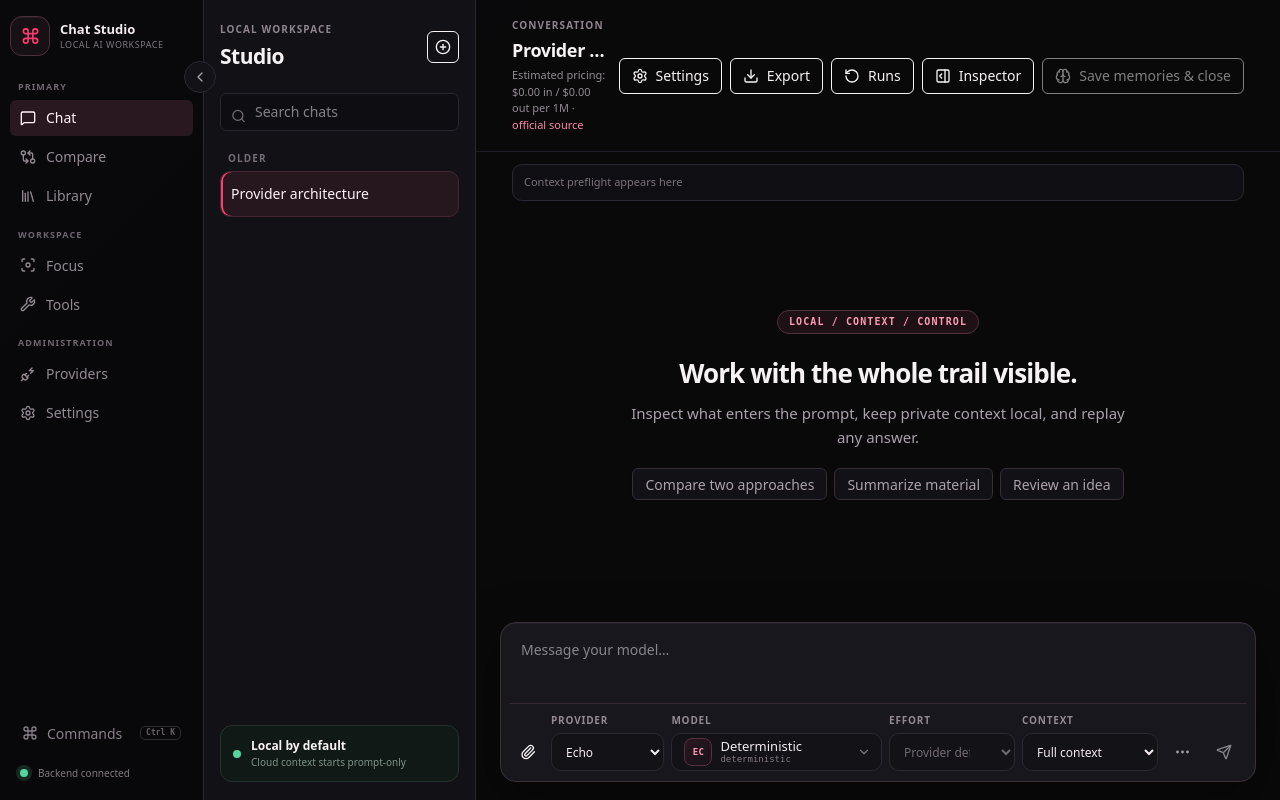
Test: studio workspace › inspects current context and controls evidence without leaving Chat
This screenshot has width=1280, height=800.
Expected: the heading "Provider architecture" is shown, [512,37,607,64]
Expected: the text "Backend connected" is shown, [38,766,130,780]
Type "hello" into the text box labelled "Message" at (878, 667), box [509,631,1247,703]
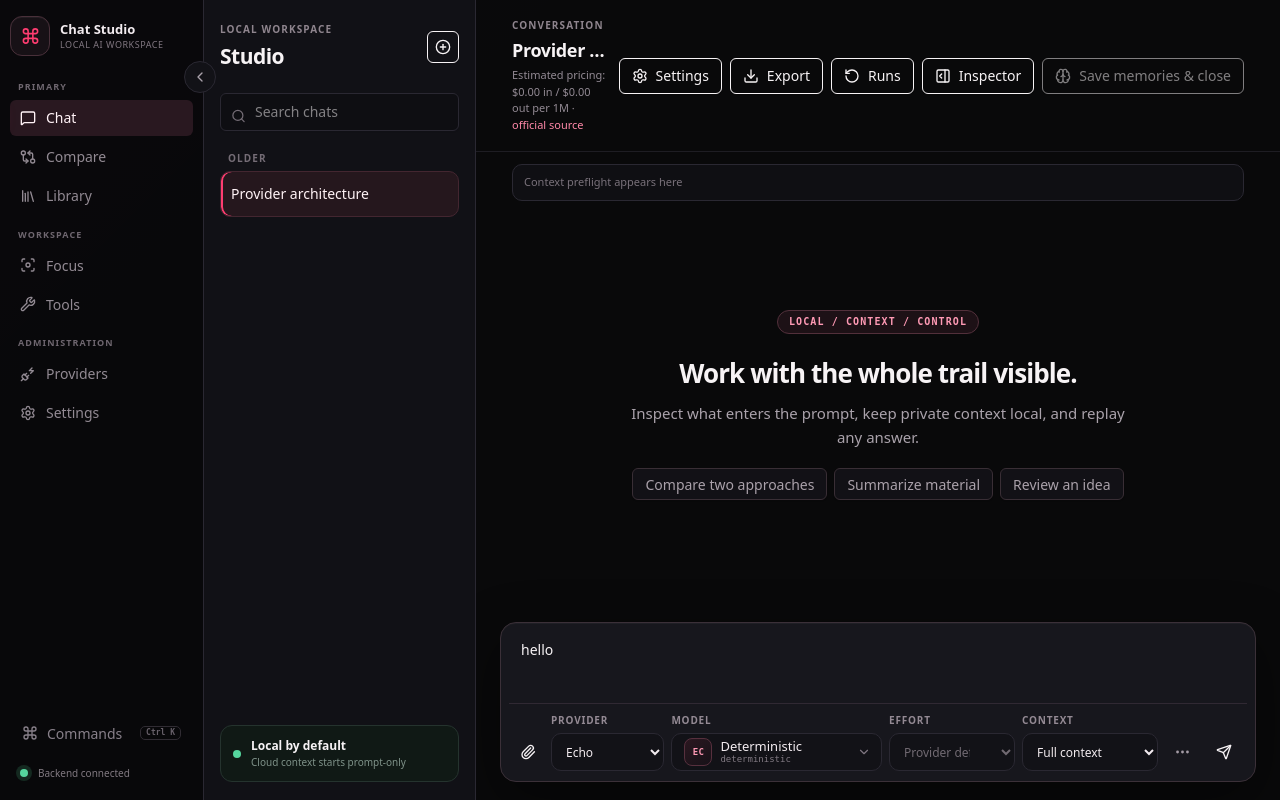
Click the button named "Send message" at (1224, 752), box [1206,733,1242,771]
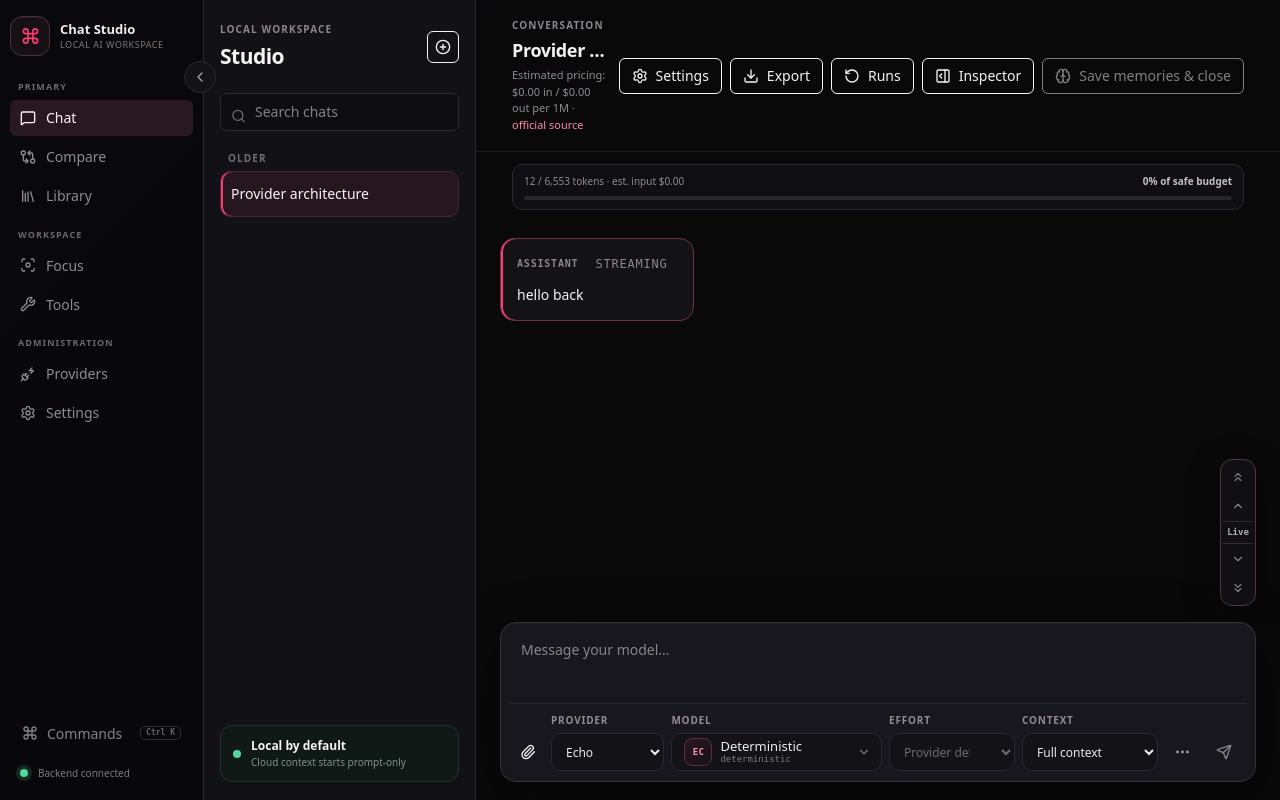
Expected: the text "hello back" is shown, [517,285,584,304]
Click the button with aria-label "Open context and evidence inspector" at (978, 76), box [922,58,1034,94]
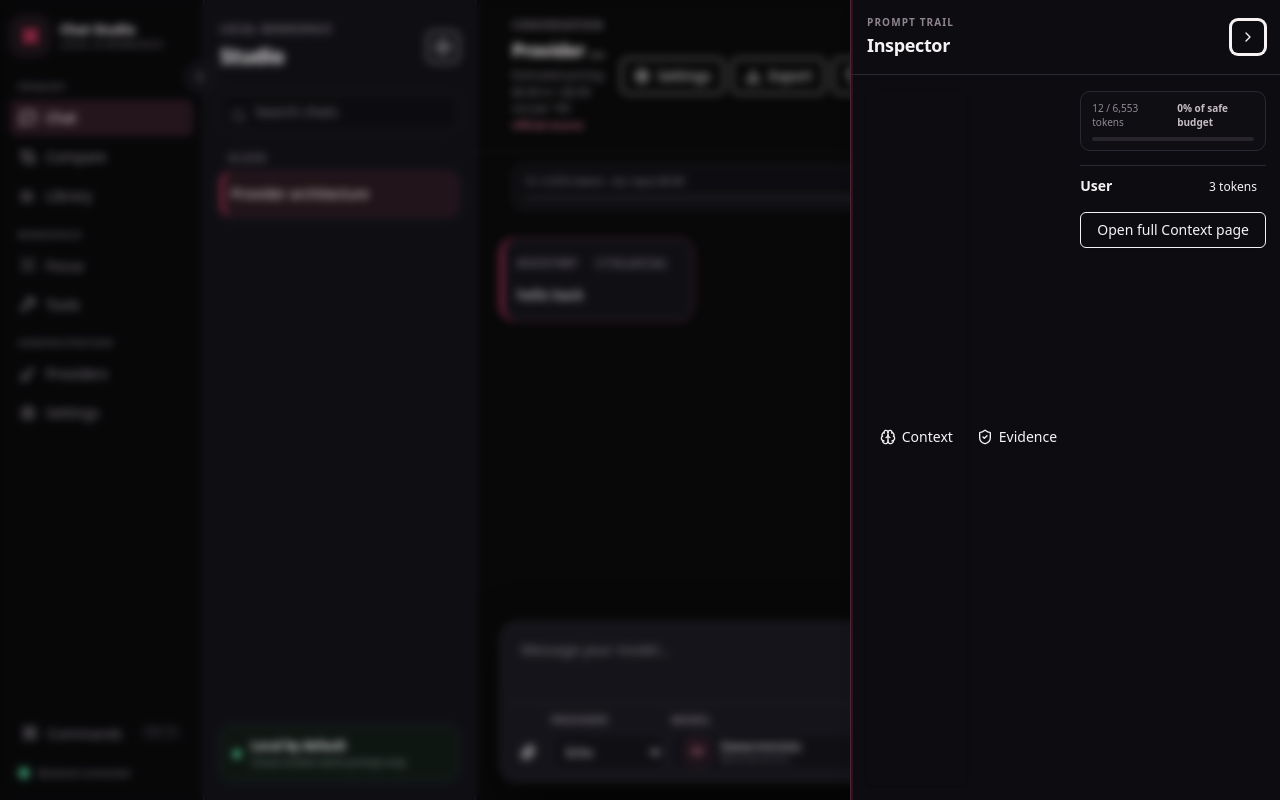
Expected: the element named "Context and evidence inspector" is shown, [851,0,1279,799]
Click the tab "Evidence" at (1017, 438), box [967,90,1067,784]
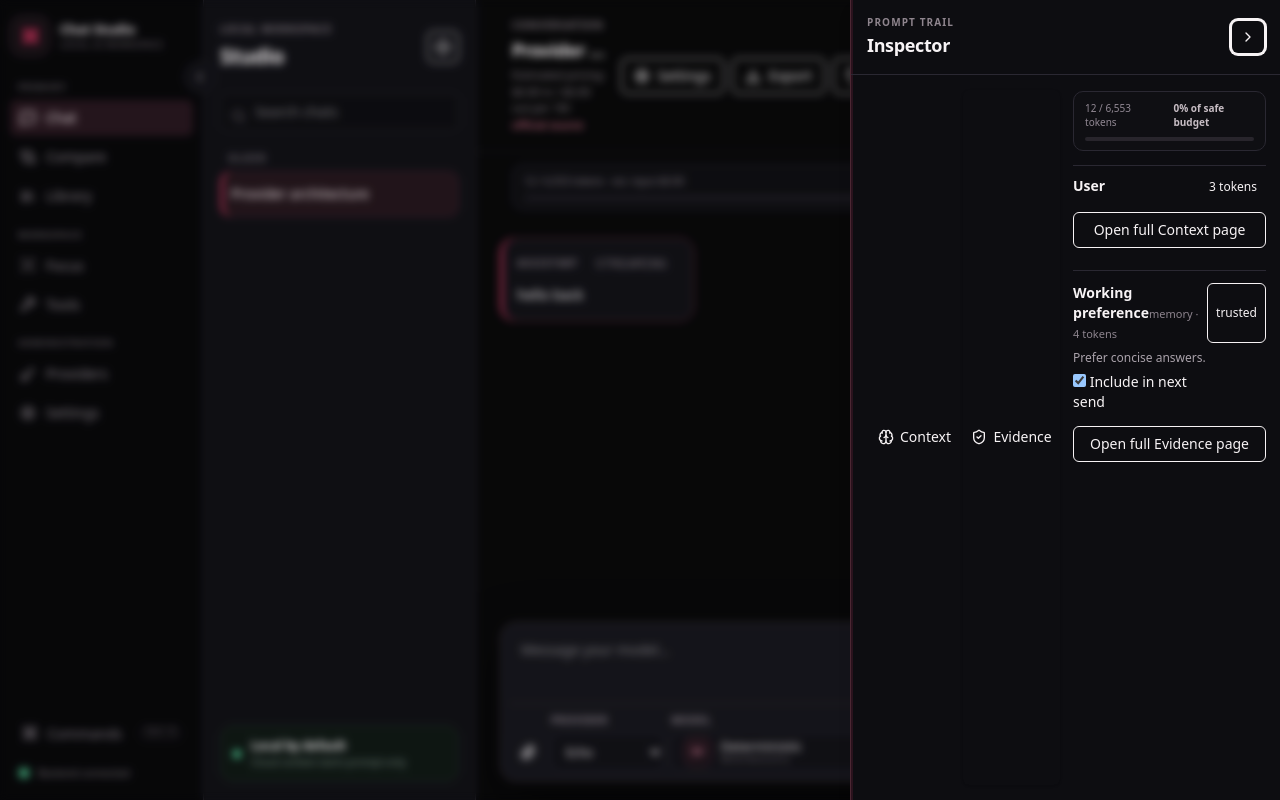
Expected: the text "Working preference" is shown, [1073,282,1149,322]
Click the checkbox labelled "Include in next send" at (1080, 380), box [1073,374,1086,387]
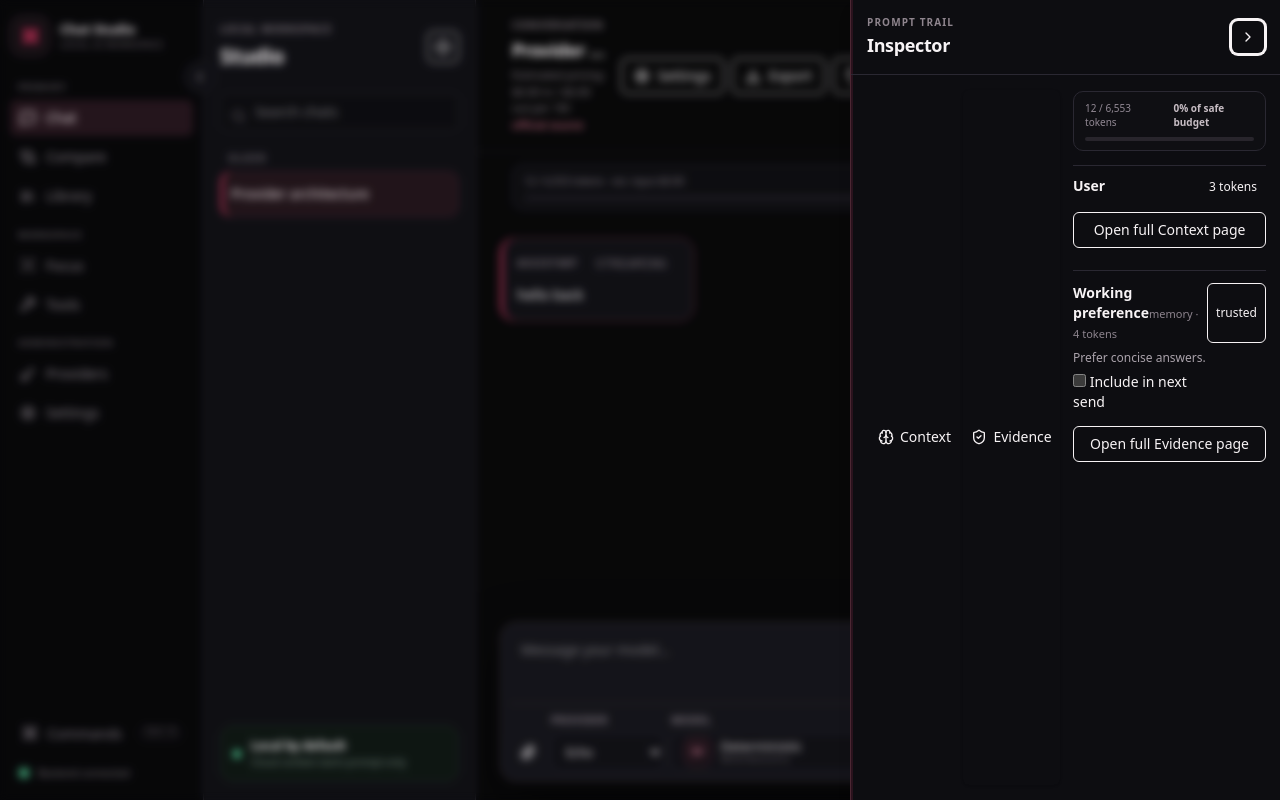
Expected: the checkbox labelled "Include in next send" is not checked, [1073,374,1086,387]
Press Escape
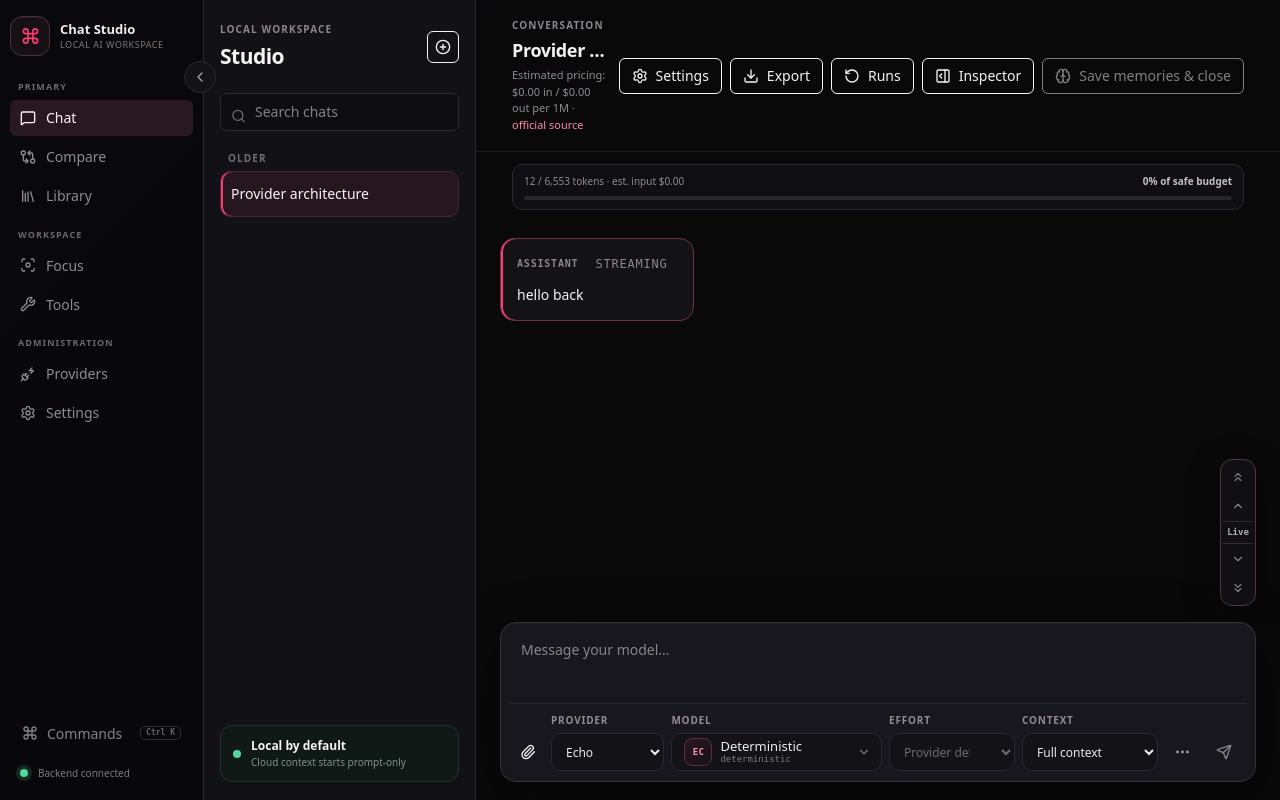
Expected: the button with aria-label "Open context and evidence inspector" is collapsed, [922,58,1034,94]
